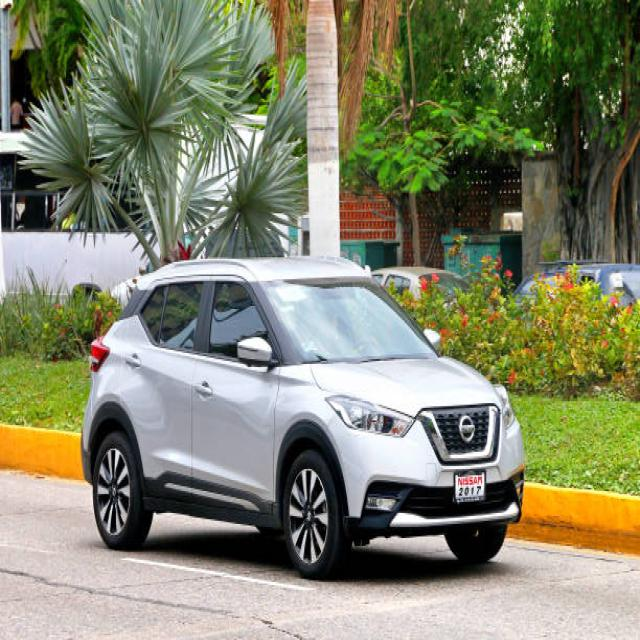car: (104, 221, 526, 570)
